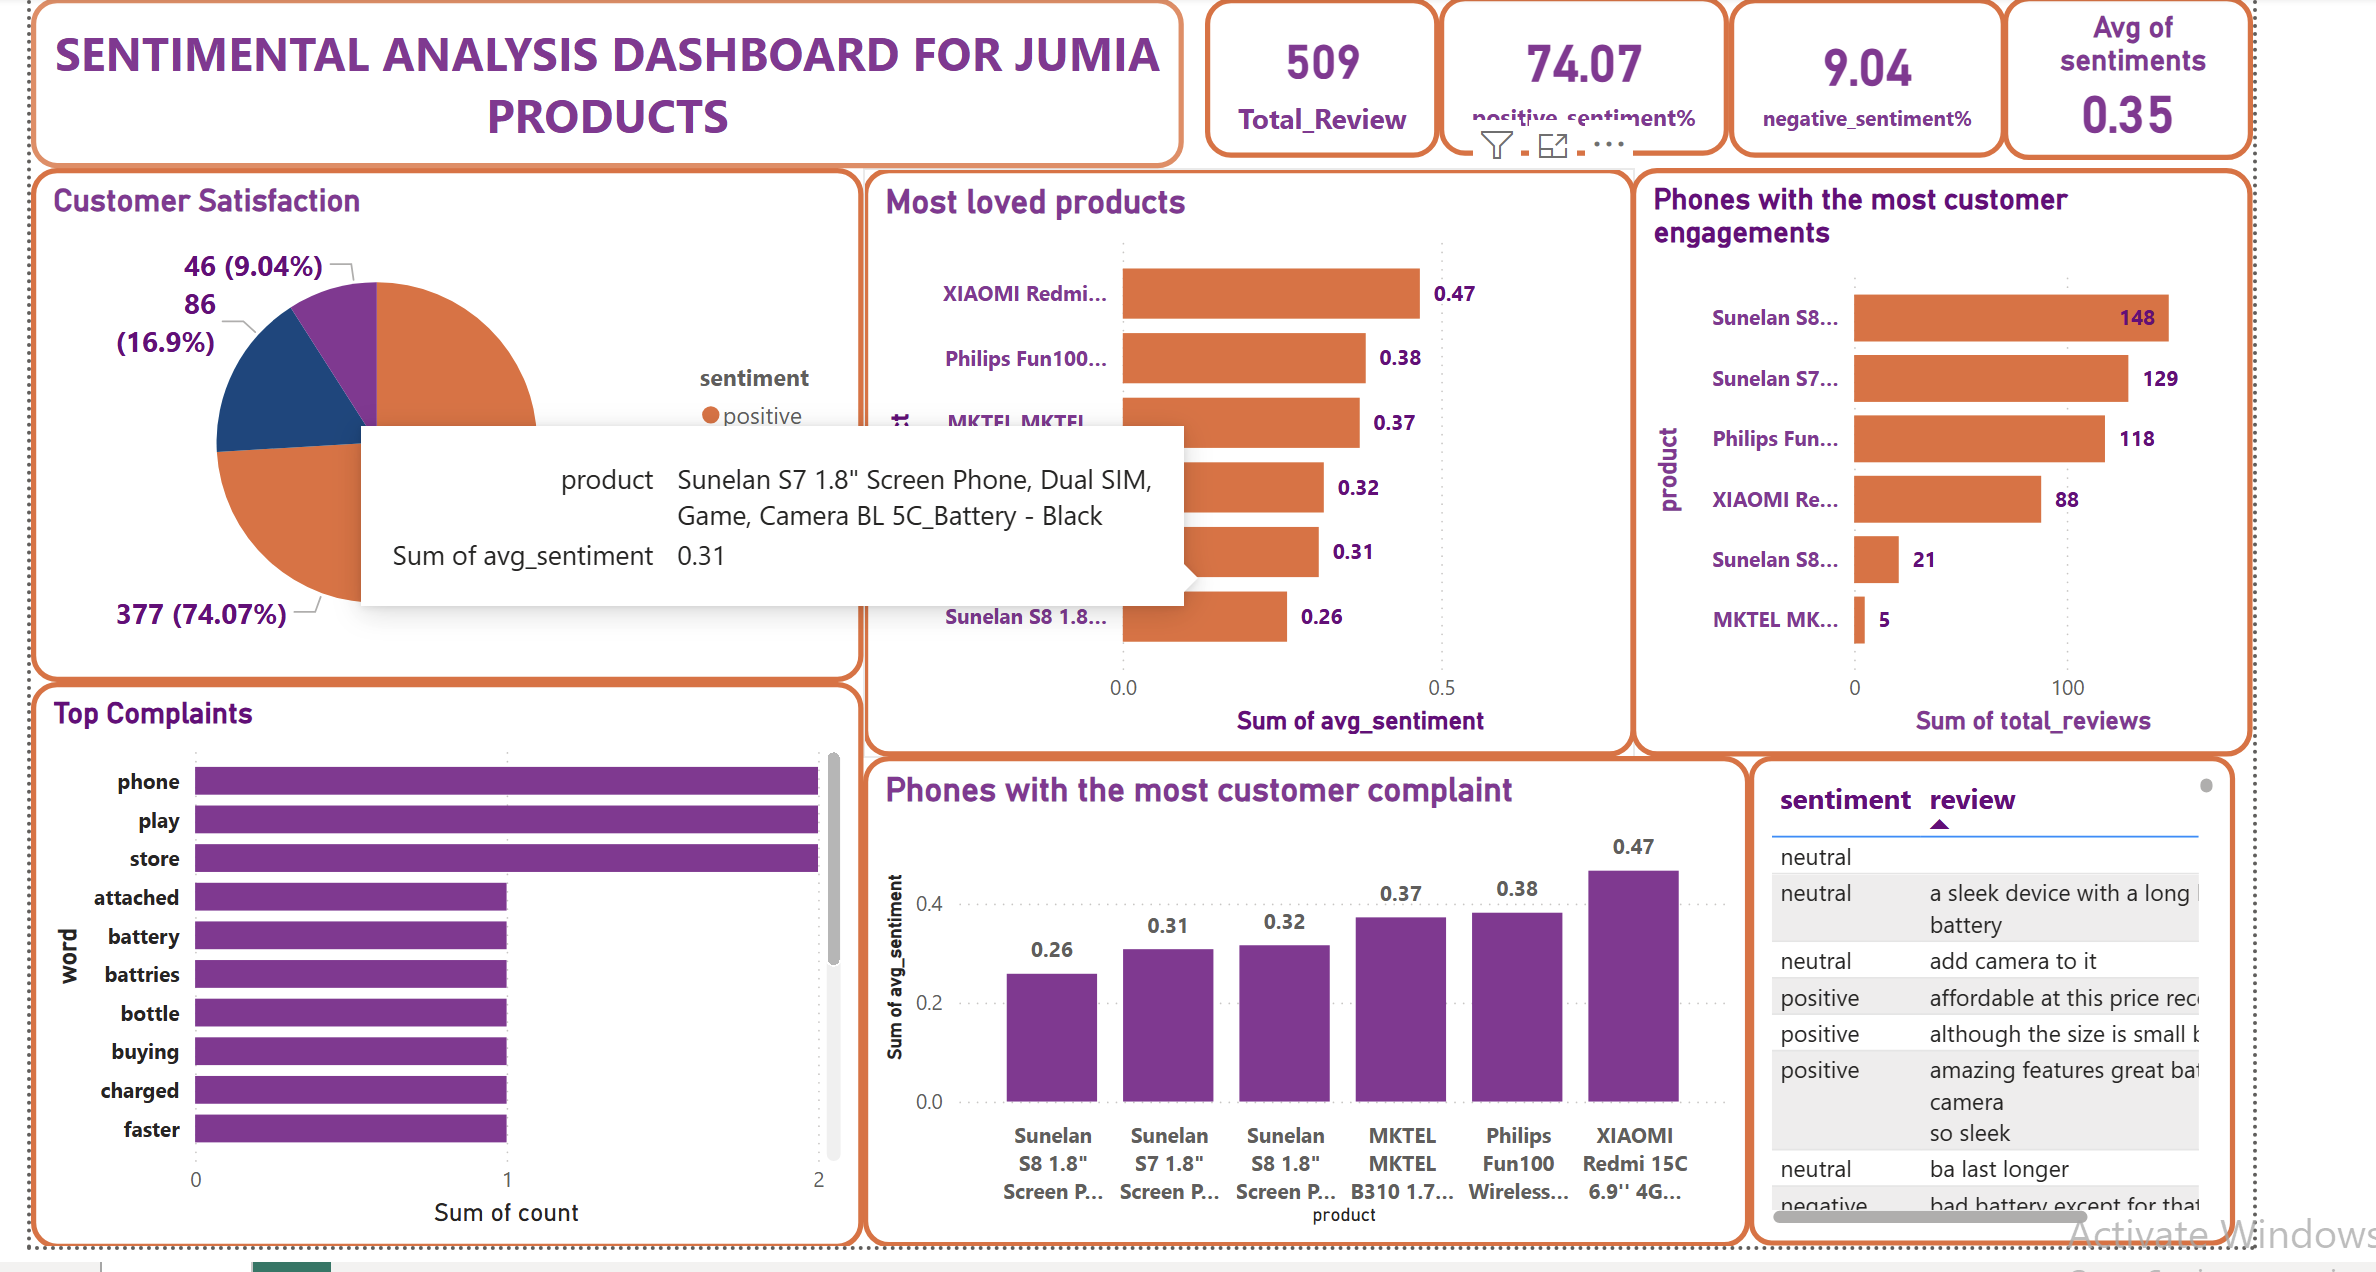

Layout of this report page (visuals, bound fields, positions):
{"tool":"powerbi","page":{"name":"Page 1","canvas":[1280,720],"ordinal":0},"visuals":[{"type":"card","fields":{"Values":["all_phones_2025-11_to_2026-01.sumtr"]},"box":[675.7,1.3,135.1,91.8],"z":0},{"type":"card","title":"Avg of sentiments","fields":{"Values":["Avg(all_phones_2025-11_to_2026-01_product_summary.avg_sentiment)"]},"box":[1135.9,0,144.1,94.3],"z":1000},{"type":"card","fields":{"Values":["all_phones_2025-11_to_2026-01.positive_sent%"]},"box":[810.8,0,167,91.8],"z":2000},{"type":"card","fields":{"Values":["all_phones_2025-11_to_2026-01.negative_sent%"]},"box":[977.8,1.3,159.4,91.8],"z":3000},{"type":"clusteredBarChart","title":"Most loved products","fields":{"Category":["all_phones_2025-11_to_2026-01_product_summary.product"],"Y":["Sum(all_phones_2025-11_to_2026-01_product_summary.avg_sentiment)"]},"box":[479.4,99.4,444.9,339.1],"z":4000},{"type":"columnChart","title":"Phones with the most customer complaint ","fields":{"Y":["Sum(all_phones_2025-11_to_2026-01_product_summary.avg_sentiment)"],"Category":["all_phones_2025-11_to_2026-01_product_summary.product"]},"box":[479.4,437.3,511.2,283],"z":5000},{"type":"clusteredBarChart","title":"Phones with the most customer engagements","fields":{"Y":["Sum(all_phones_2025-11_to_2026-01_product_summary.total_reviews)"],"Category":["all_phones_2025-11_to_2026-01_product_summary.product"]},"box":[921.8,99.4,358.2,339.1],"z":6000},{"type":"pieChart","title":"Customer Satisfaction","fields":{"Category":["all_phones_2025-11_to_2026-01_sentiment_results copy.sentiment"],"Y":["CountNonNull(all_phones_2025-11_to_2026-01_sentiment_results copy.sentiment)"]},"box":[0,99.4,479.4,295.8],"z":7000},{"type":"barChart","title":"Top Complaints","fields":{"Y":["Sum(negative_review_words.count)"],"Category":["negative_review_words.word"]},"box":[0,395.2,479.4,326.4],"z":8000},{"type":"tableEx","fields":{"Values":["all_phones_2025-11_to_2026-01_sentiment_results copy.sentiment","all_phones_2025-11_to_2026-01_sentiment_results copy.review"]},"box":[990,438,280,282],"z":9000},{"type":"textbox","box":[0,1.3,664.2,98.2],"z":10000}]}

Visuals, with their boxes in screenshot pixels (x1, y1, x2, y2):
card - all_phones_2025-11_to_2026-01.sumtr: x1=1198 y1=0 x2=1434 y2=150
"Avg of sentiments" card: x1=2002 y1=0 x2=2253 y2=152
card - all_phones_2025-11_to_2026-01.positive_sent%: x1=1434 y1=0 x2=1726 y2=148
card - all_phones_2025-11_to_2026-01.negative_sent%: x1=1726 y1=0 x2=2004 y2=150
"Most loved products" clusteredBarChart: x1=856 y1=161 x2=1632 y2=753
"Phones with the most customer complaint " columnChart: x1=856 y1=751 x2=1748 y2=1245
"Phones with the most customer engagements" clusteredBarChart: x1=1628 y1=161 x2=2253 y2=753
"Customer Satisfaction" pieChart: x1=19 y1=161 x2=856 y2=678
"Top Complaints" barChart: x1=19 y1=678 x2=856 y2=1247
tableEx - all_phones_2025-11_to_2026-01_sentiment_results copy.sentiment x all_phones_2025-11_to_2026-01_sentiment_results copy.review: x1=1747 y1=752 x2=2236 y2=1245
textbox: x1=19 y1=0 x2=1178 y2=161
